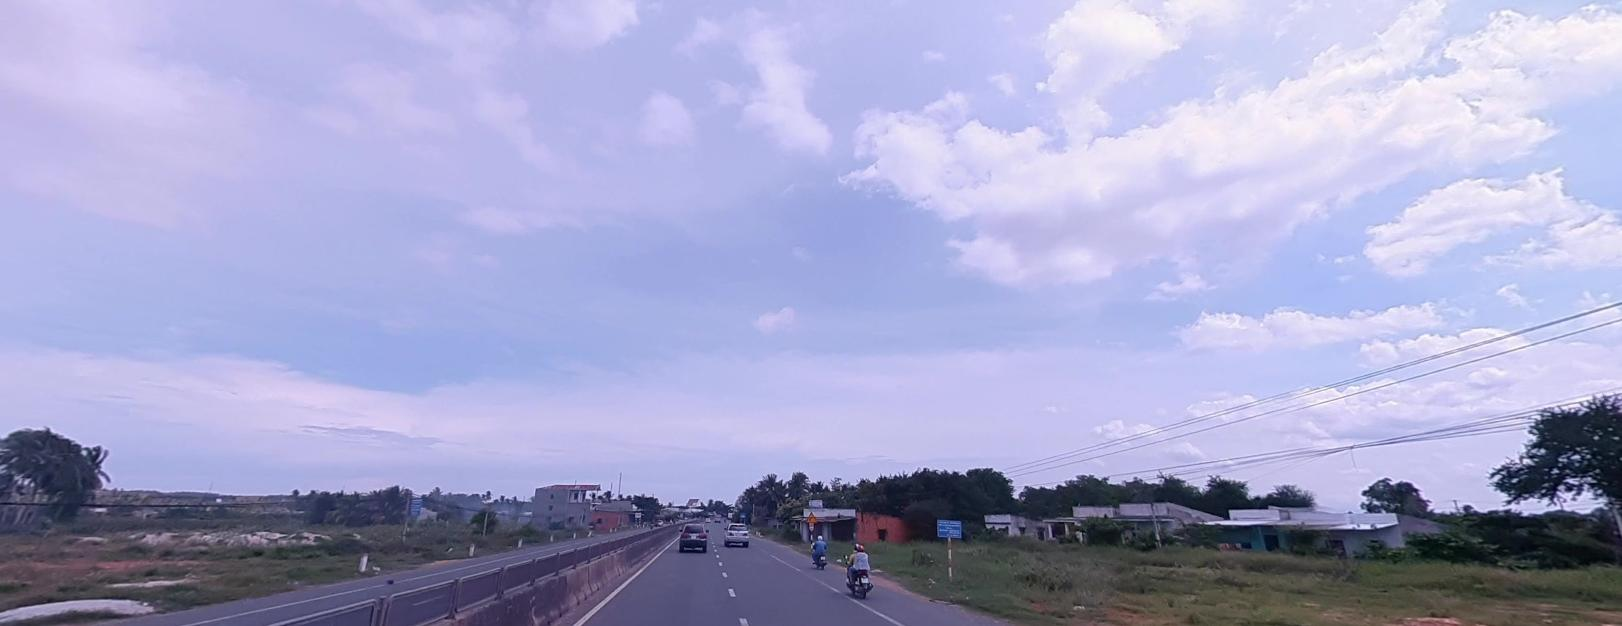Nguy hiem: (805, 510, 816, 521), (806, 510, 816, 521)
